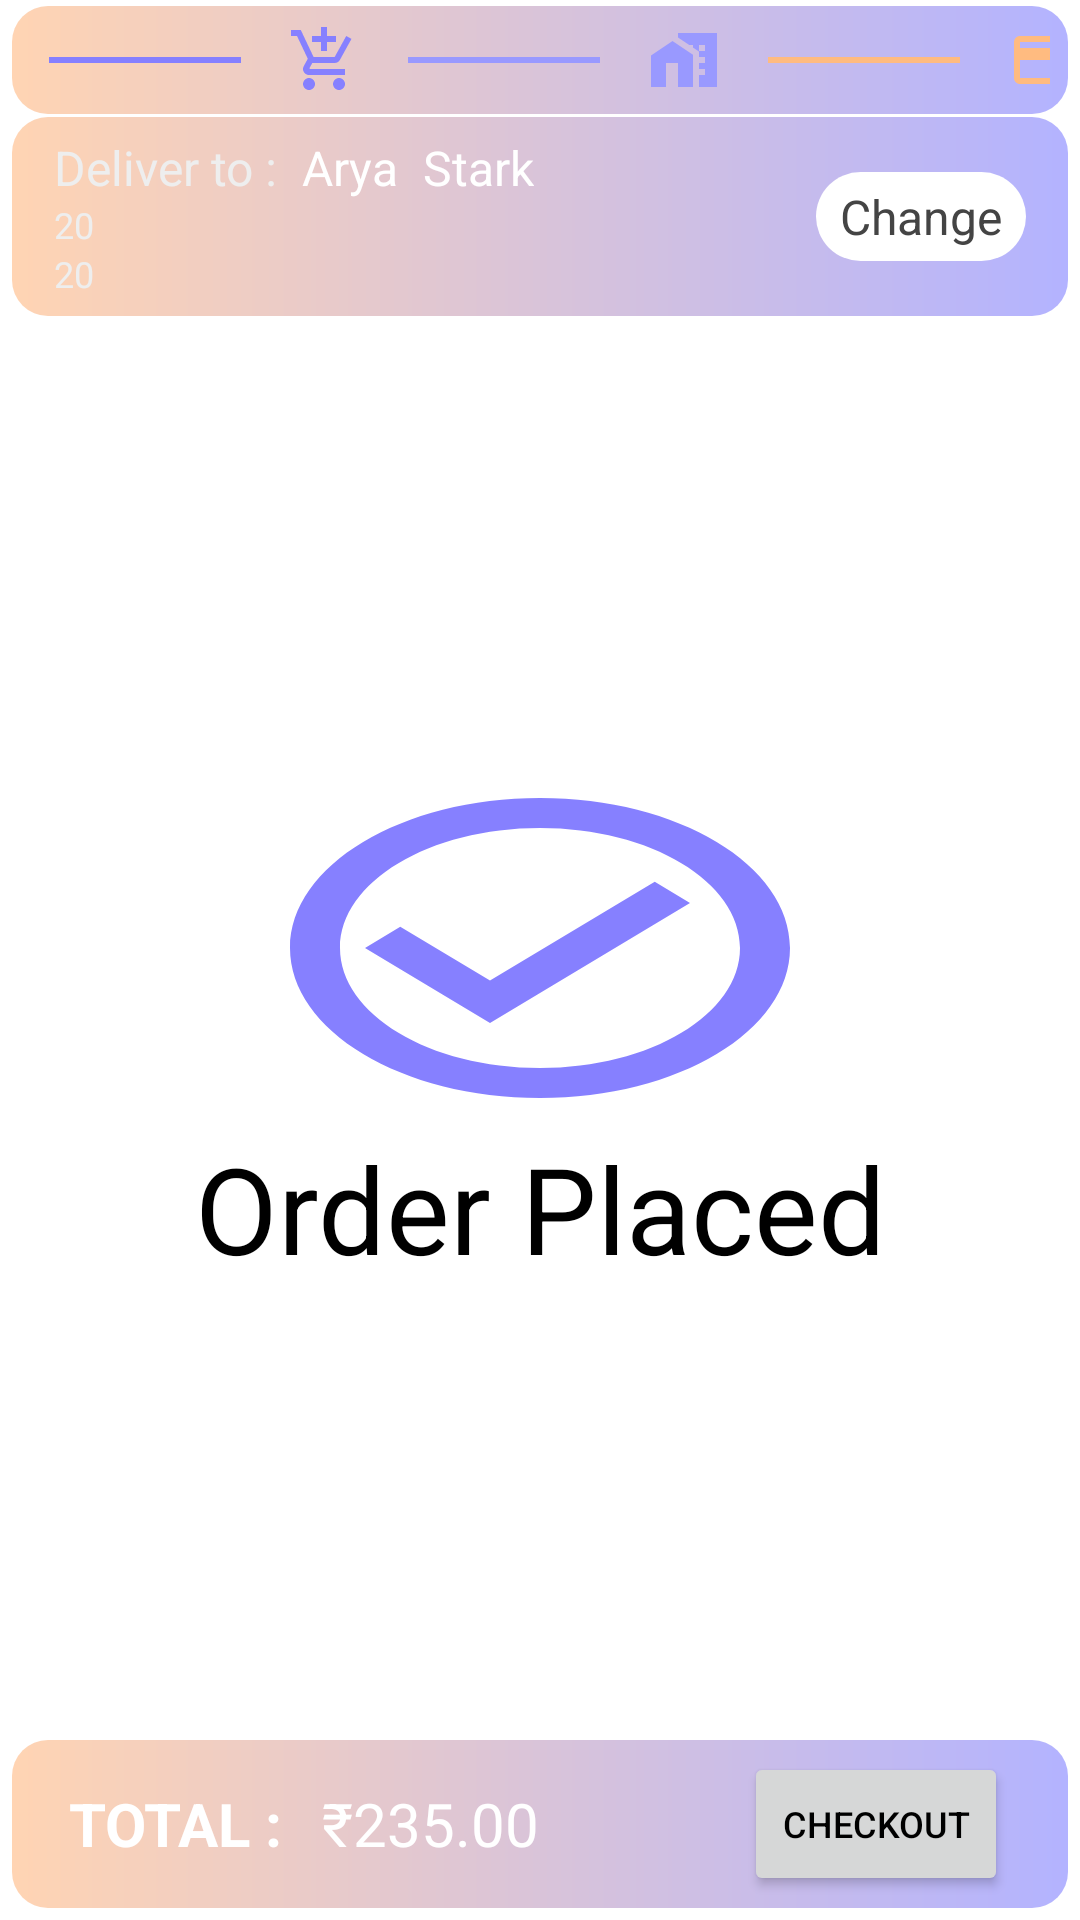

Locate icon controls on the screen. Image size 1080px×1920px, boxes as (x1,y1,x2,y2).
cart added: (291,27,351,90)
